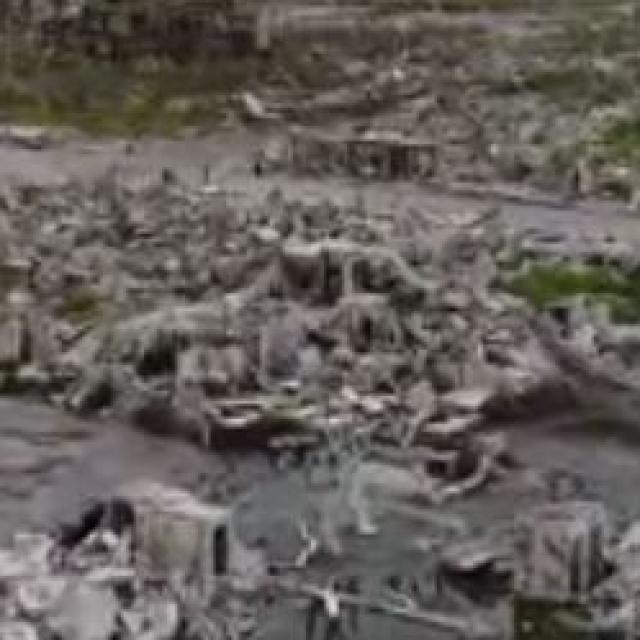collapsed_building: (0, 175, 604, 447)
